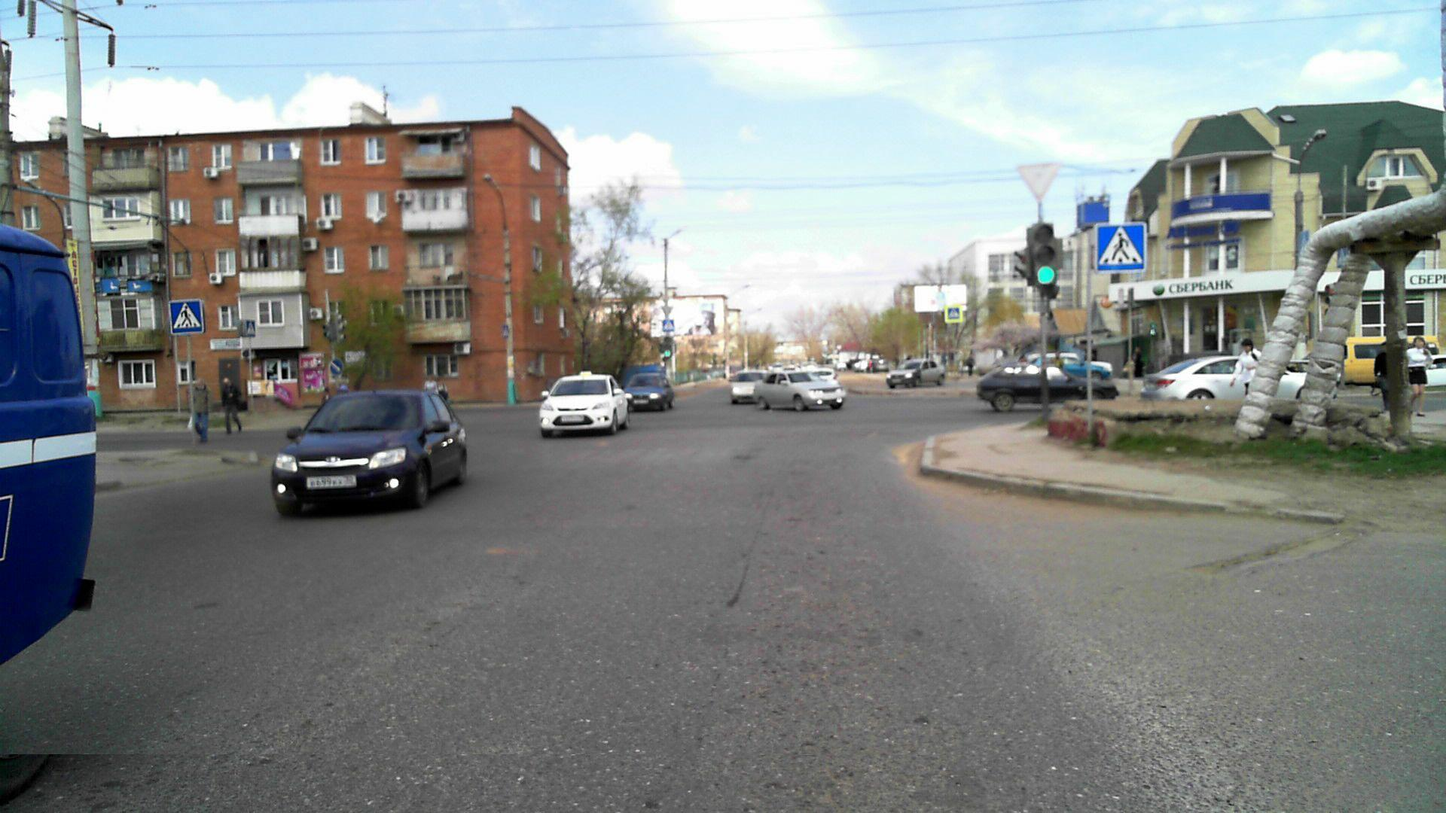off traffic light: (1012, 247, 1030, 279)
road_sign: (1093, 222, 1148, 272), (167, 298, 206, 336)
traffic light: (1032, 224, 1055, 285)
